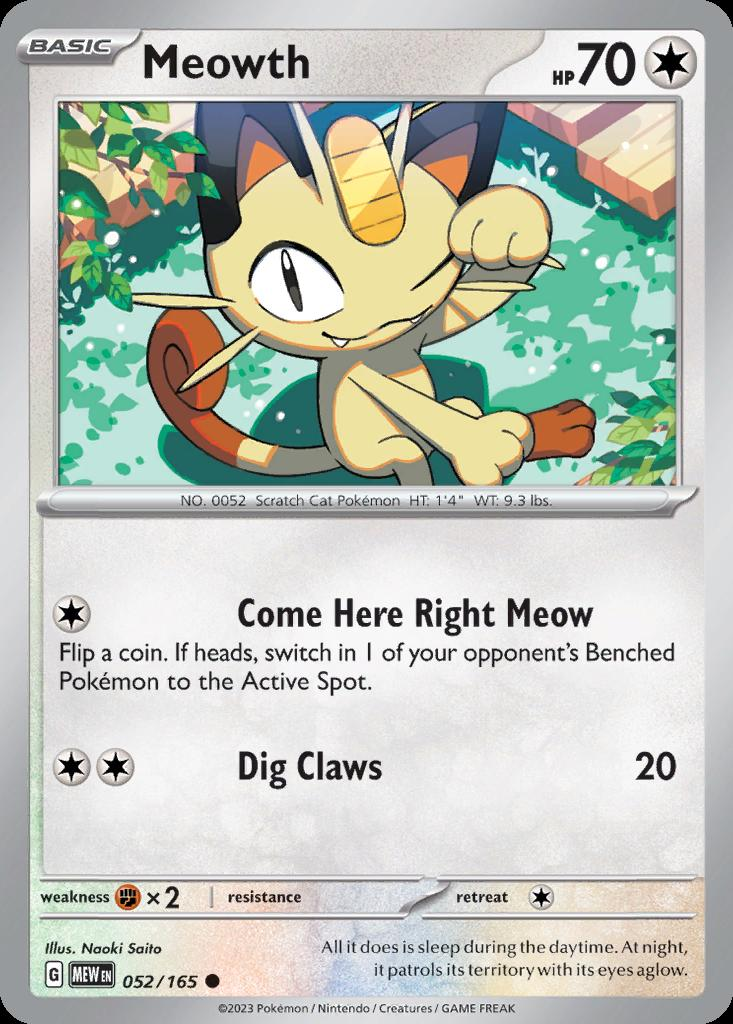card: (4, 5, 732, 1024)
hp: (524, 27, 706, 87)
name: (133, 17, 326, 94)
set num: (120, 964, 226, 997)
set symbol: (64, 956, 121, 996)
